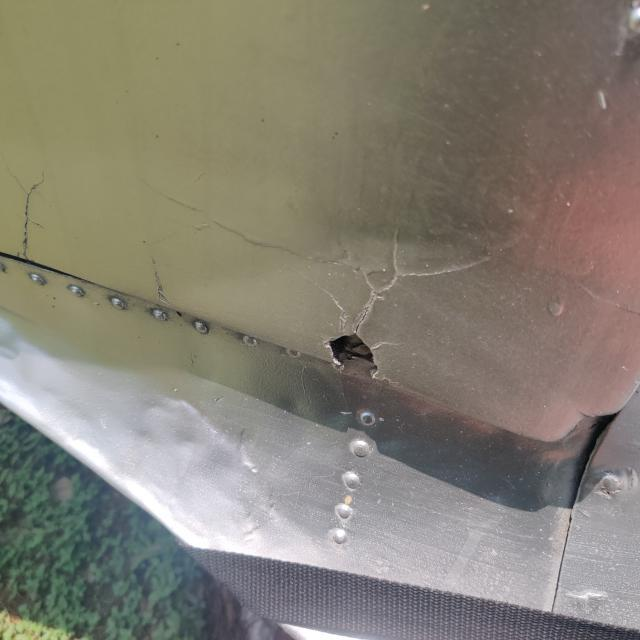Crack: (329, 246, 525, 378)
